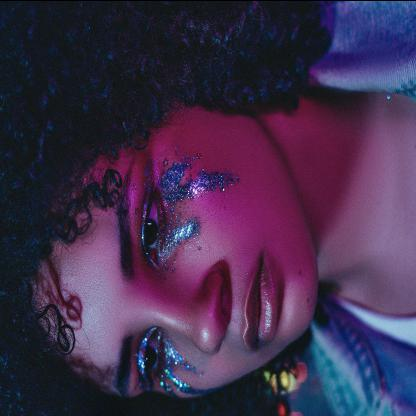Eye: (140, 178, 168, 270), (136, 323, 166, 397)
Mouth: (239, 252, 284, 354)
Nose: (170, 268, 232, 361)
